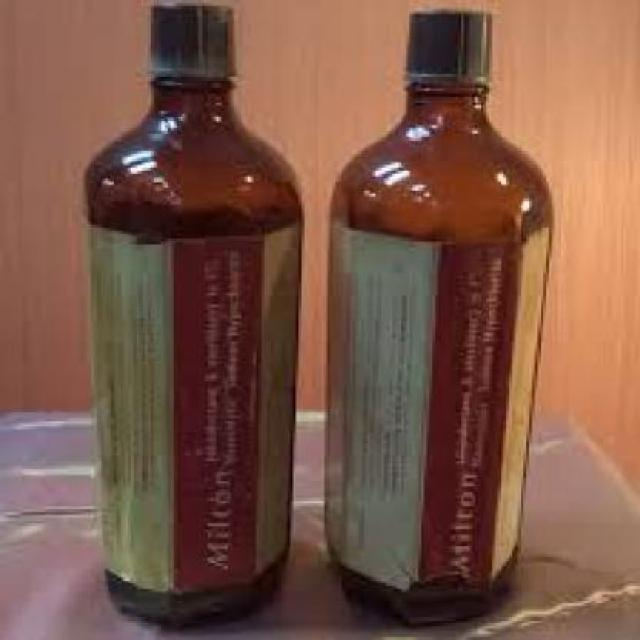kaca: (325, 83, 552, 623), (80, 71, 295, 626)
